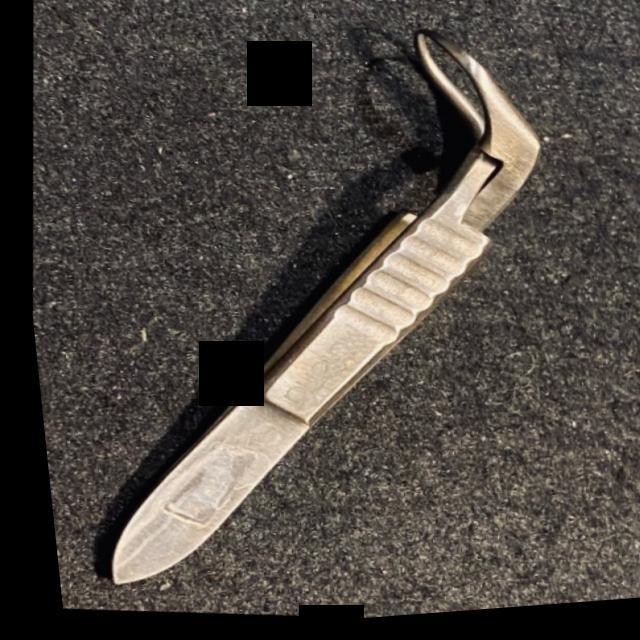Jones Towel Clamp: (33, 0, 600, 638)
